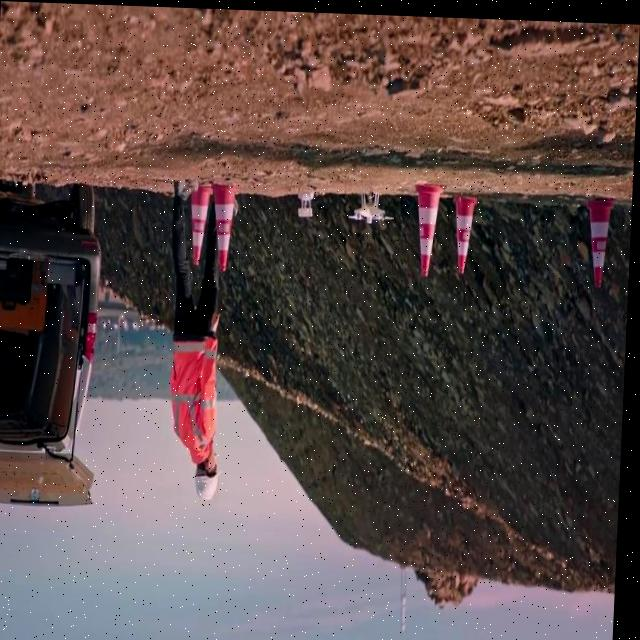drone: (349, 187, 395, 223)
